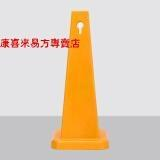cone_barrel: (51, 13, 107, 149)
